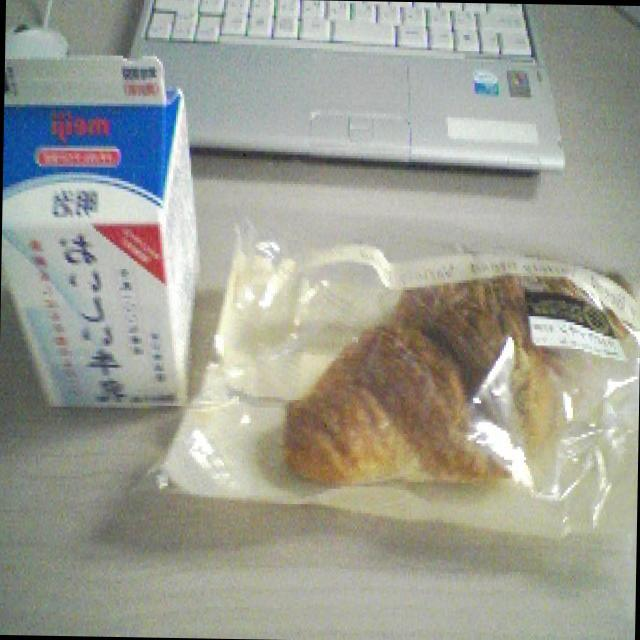Croissant: (276, 264, 632, 502)
